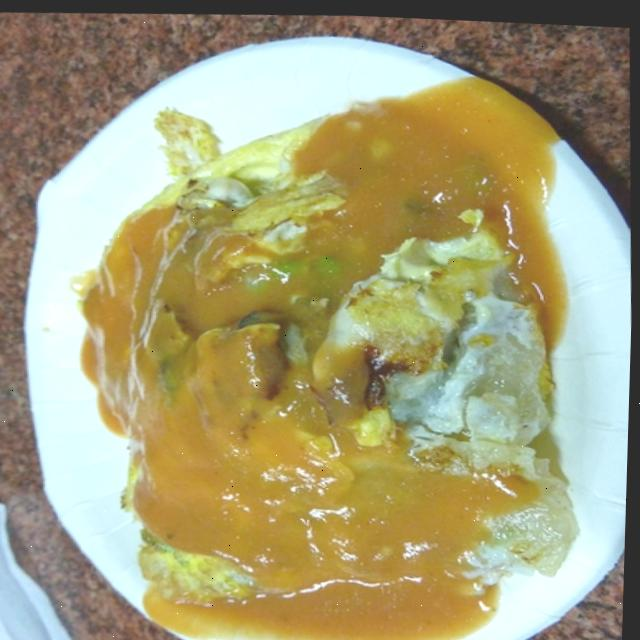熟制海鲜: (0, 18, 640, 640)
